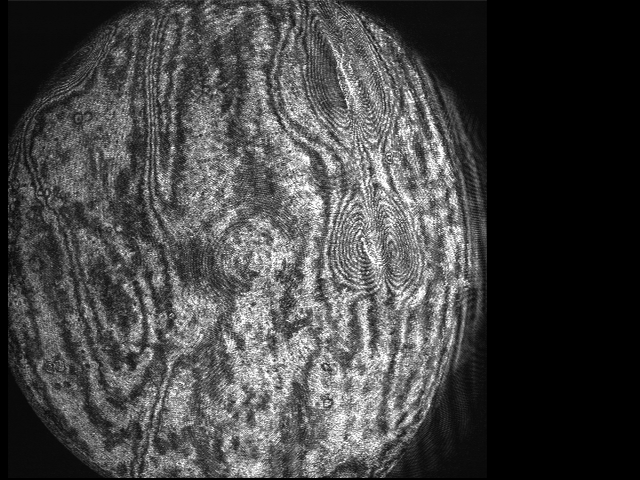plume: (335, 198, 421, 297)
